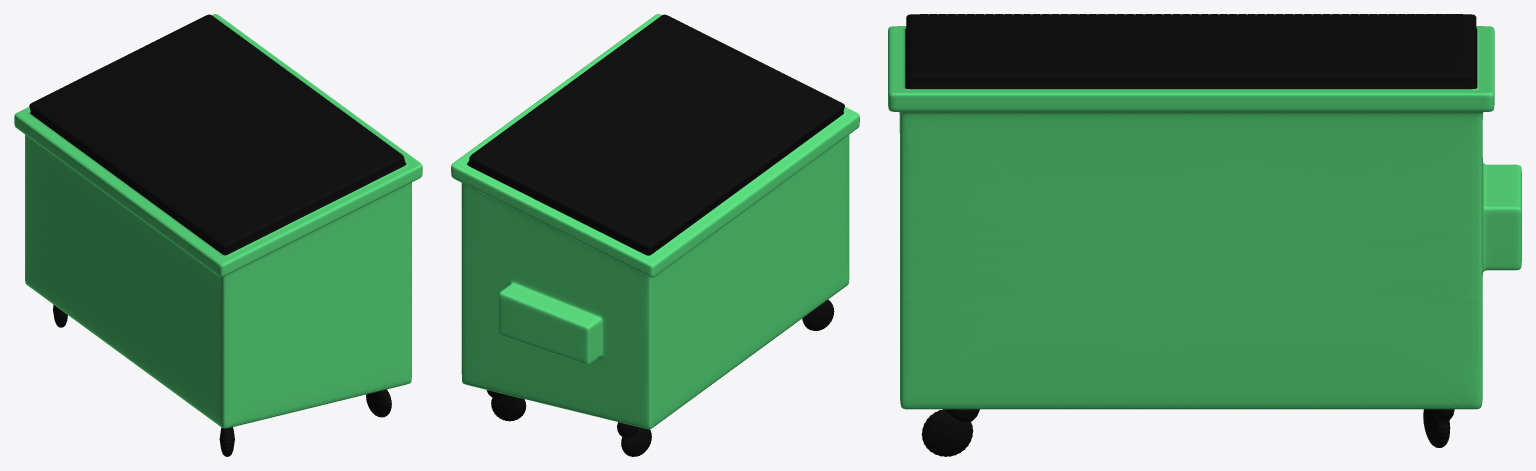
File: poubelle.glb
The picture shows the model from 3 angles, left to right: view 1: azimuth 30°, elevation 25°; view 2: azimuth 150°, elevation 25°; view 3: azimuth 270°, elevation 25°; orthographic projection. The views are drawn at different scales.
Parts seen in each view (by area): view 1: Cube.007; view 2: Cube.007; view 3: Cube.007.
Boxes of the visible parts, x1,y1,x2,y2 form: Cube.007: (14,14,422,456); Cube.007: (451,14,859,456); Cube.007: (888,14,1521,456).
Size of the model in its own units: 6.06 by 7.62 by 11.23.
